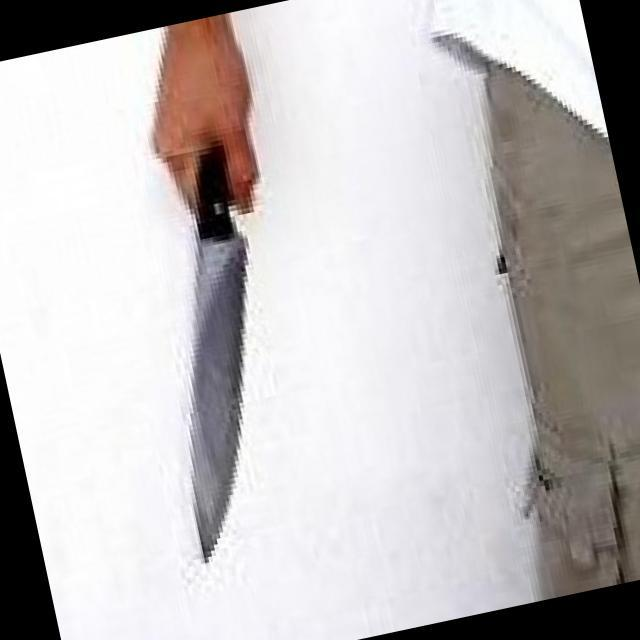Knife: (94, 98, 350, 598)
